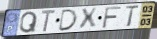D: (57, 9, 79, 32)
F: (101, 6, 123, 30)
Q: (19, 10, 39, 34)
T: (40, 9, 58, 34), (124, 5, 140, 28)
X: (78, 7, 98, 31)
